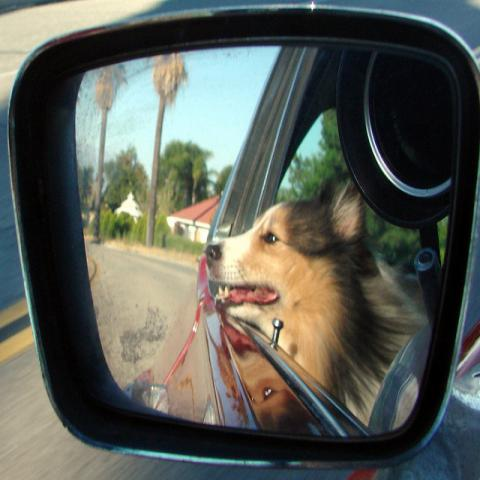car: (5, 1, 479, 476)
